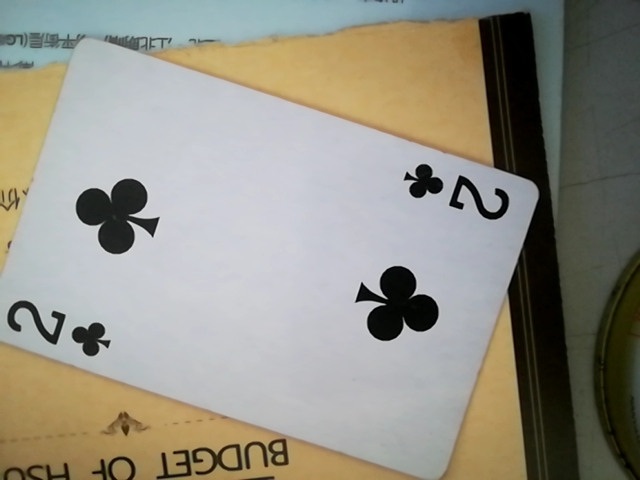mh 2: (0, 45, 538, 471)
